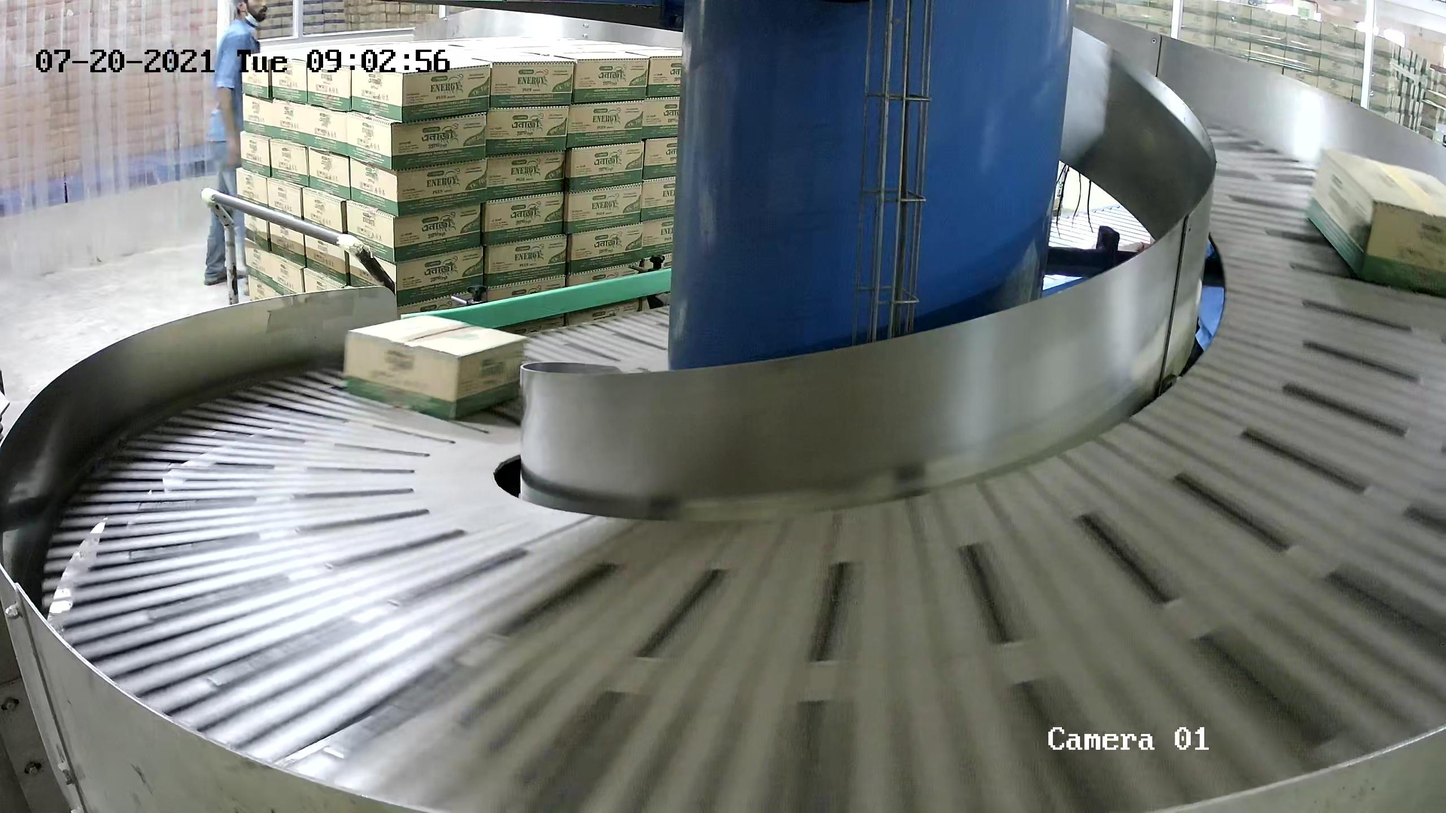Box: (1304, 145, 1446, 300), (344, 313, 525, 420)
